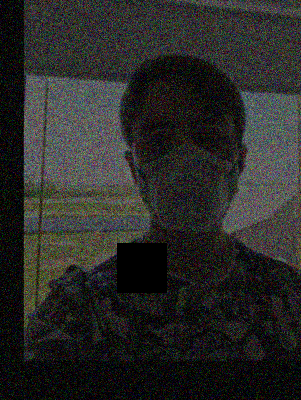with_mask: (132, 99, 241, 231)
